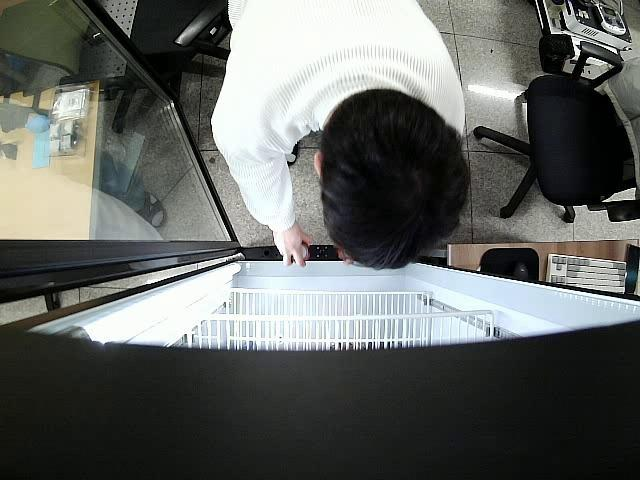11_cocaColaZero: (289, 241, 310, 264)
